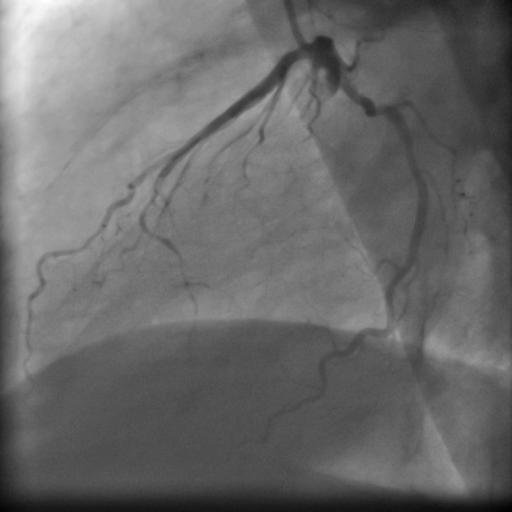Stenosis: (370, 92, 391, 128)
